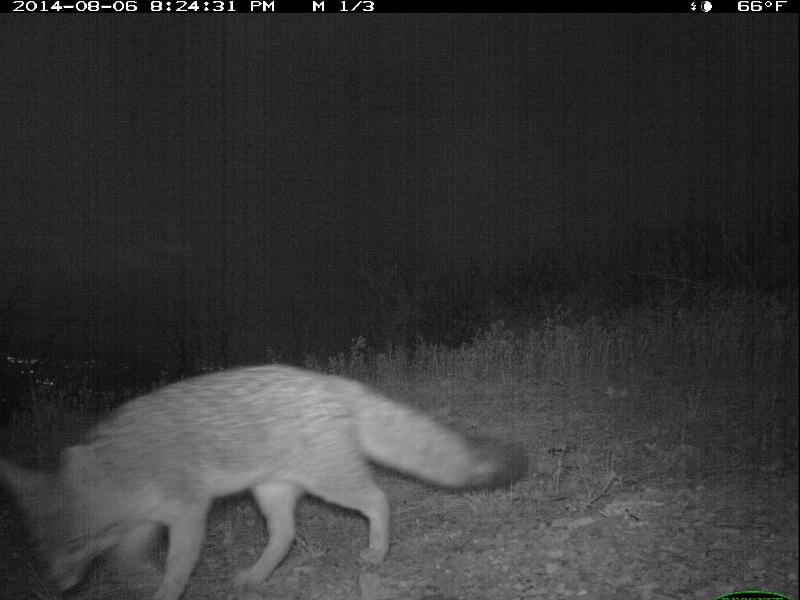coyote: (4, 364, 523, 600)
